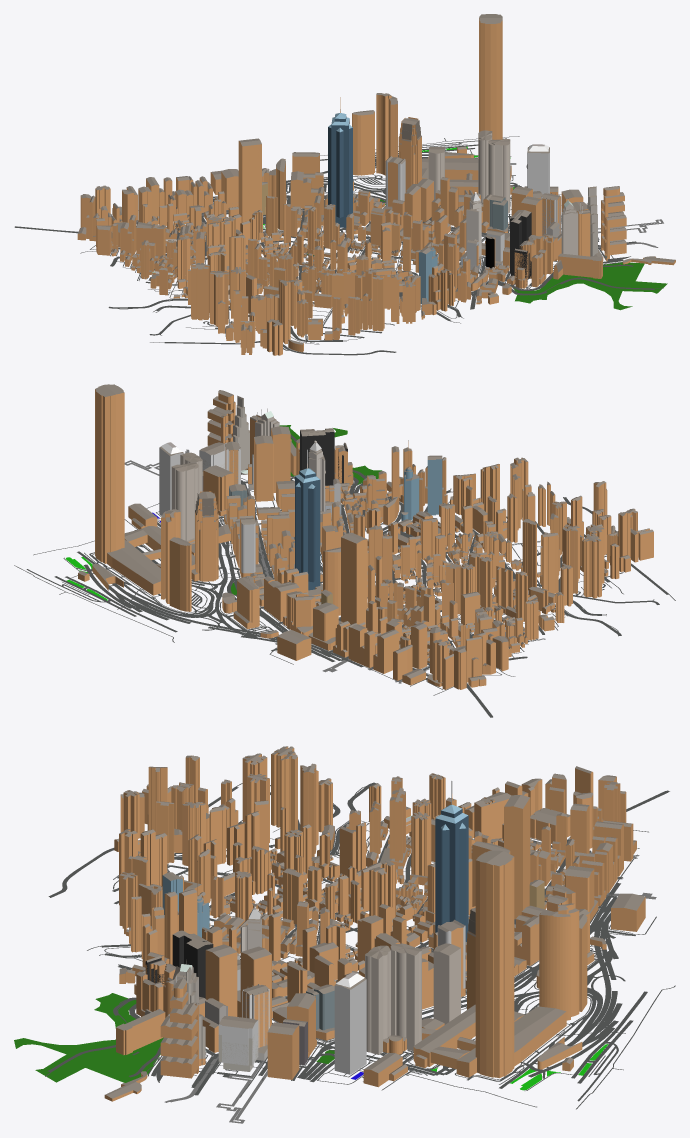
The model's file is HK_full_with_roads.fbx.
The picture shows the model from 3 angles, top to bottom: view 1: azimuth 30°, elevation 25°; view 2: azimuth 150°, elevation 25°; view 3: azimuth 270°, elevation 25°; orthographic projection. The views are drawn at different scales.
Parts seen in each view (by area): view 1: element.200, 國際金融中心二期 Two International Finance Centre, 交易廣場 Exchange Square, 中環中心 The Center, map_3.osm_forest, map_2.osm_paths_footway, 中遠大廈 Cosco Tower, 滙豐總行大廈 HSBC Main Building, map_2.osm_roads_tertiary, 國際金融中心一期 One International Finance Centre, 國際金融中心商場 International Finance Centre Mall, 置地廣塲中庭 LANDMARK ATRIUM (+27 smaller); view 2: 國際金融中心二期 Two International Finance Centre, 中環中心 The Center, map_2.osm_paths_footway, element.200, 國際金融中心商場 International Finance Centre Mall, 中遠大廈 Cosco Tower, 置地廣塲中庭 LANDMARK ATRIUM, 國際金融中心一期 One International Finance Centre, 交易廣場 Exchange Square, map_2.osm_roads_tertiary, 滙豐總行大廈 HSBC Main Building, map_2.osm_roads_motorway (+47 smaller); view 3: 國際金融中心二期 Two International Finance Centre, 交易廣場 Exchange Square, element.200, 國際金融中心商場 International Finance Centre Mall, map_3.osm_forest, 中環中心 The Center, map_2.osm_paths_footway, 置地廣塲中庭 LANDMARK ATRIUM, 怡和大廈 Jardine House, 滙豐總行大廈 HSBC Main Building, map_2.osm_roads_tertiary, 中遠大廈 Cosco Tower (+62 smaller).
Boxes of the visible parts, <box> form: element.200: <box>352,93,397,175</box>; 國際金融中心二期 Two International Finance Centre: <box>479,14,502,139</box>; 交易廣場 Exchange Square: <box>428,130,510,213</box>; 中環中心 The Center: <box>328,97,352,227</box>; map_3.osm_forest: <box>307,199,667,310</box>; map_2.osm_paths_footway: <box>15,136,663,354</box>; 中遠大廈 Cosco Tower: <box>238,138,261,222</box>; 滙豐總行大廈 HSBC Main Building: <box>601,186,626,258</box>; map_2.osm_roads_tertiary: <box>130,144,654,355</box>; 國際金融中心一期 One International Finance Centre: <box>398,117,421,190</box>; 國際金融中心商場 International Finance Centre Mall: <box>422,158,511,190</box>; 置地廣塲中庭 LANDMARK ATRIUM: <box>511,186,557,261</box>; 國際金融中心二期 Two International Finance Centre: <box>95,384,124,563</box>; 中環中心 The Center: <box>295,449,320,590</box>; map_2.osm_paths_footway: <box>14,440,675,716</box>; element.200: <box>161,509,191,611</box>; 國際金融中心商場 International Finance Centre Mall: <box>107,526,195,595</box>; 中遠大廈 Cosco Tower: <box>341,532,367,624</box>; 置地廣塲中庭 LANDMARK ATRIUM: <box>254,426,290,501</box>; 國際金融中心一期 One International Finance Centre: <box>195,491,218,581</box>; 交易廣場 Exchange Square: <box>171,452,202,540</box>; map_2.osm_roads_tertiary: <box>54,434,668,670</box>; 滙豐總行大廈 HSBC Main Building: <box>207,390,235,445</box>; map_2.osm_roads_motorway: <box>108,583,277,638</box>; 國際金融中心二期 Two International Finance Centre: <box>475,850,514,1078</box>; 交易廣場 Exchange Square: <box>365,943,460,1054</box>; element.200: <box>539,903,587,1020</box>; 國際金融中心商場 International Finance Centre Mall: <box>413,1004,566,1077</box>; map_3.osm_forest: <box>14,993,334,1082</box>; 中環中心 The Center: <box>435,781,468,941</box>; map_2.osm_paths_footway: <box>45,783,675,1109</box>; 置地廣塲中庭 LANDMARK ATRIUM: <box>199,944,271,1026</box>; 怡和大廈 Jardine House: <box>334,972,366,1074</box>; 滙豐總行大廈 HSBC Main Building: <box>160,978,198,1078</box>; map_2.osm_roads_tertiary: <box>47,785,647,1095</box>; 中遠大廈 Cosco Tower: <box>504,795,530,919</box>.
Size of the model in its own units: 143992 by 41580 by 117046.
